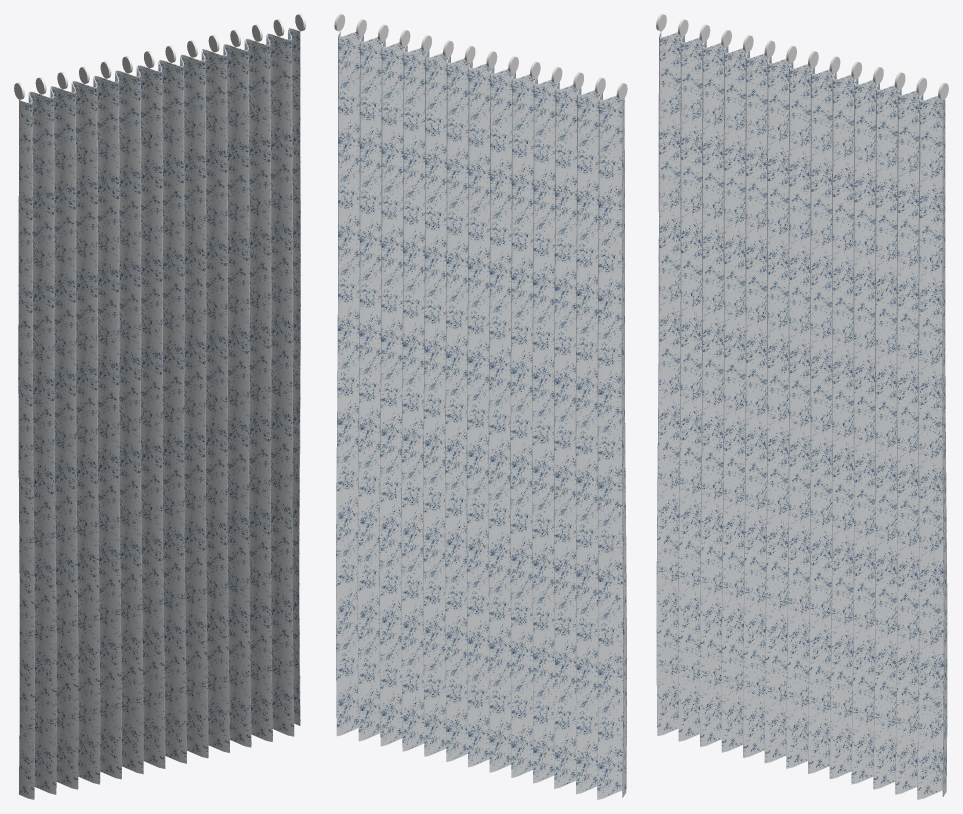
The model's file is rec8DEBephwY3xbtL.glb.
3 views of the same model, side by side, from view 1: azimuth 30°, elevation 25°; view 2: azimuth 150°, elevation 25°; view 3: azimuth 330°, elevation 25° (orthographic).
Visible parts, largest first — view 1: rideau_douche_etage_Corps; view 2: rideau_douche_etage_Corps; view 3: rideau_douche_etage_Corps.
Part boxes in pixels (<box>): rideau_douche_etage_Corps: <box>14,14,305,799</box>; rideau_douche_etage_Corps: <box>334,14,627,799</box>; rideau_douche_etage_Corps: <box>656,14,948,799</box>.
Size of the model in its own units: 0.796 by 1.91 by 0.0959.
Materials: 2 (1 with a texture image).
